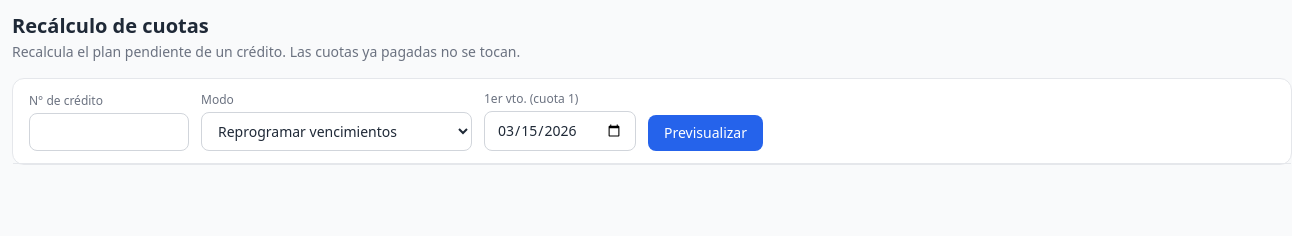
Test: Recálculo de cuotas › sin número de crédito no previsualiza
Click the button "Previsualizar".
click(706, 133)  # box [648,115,763,151]
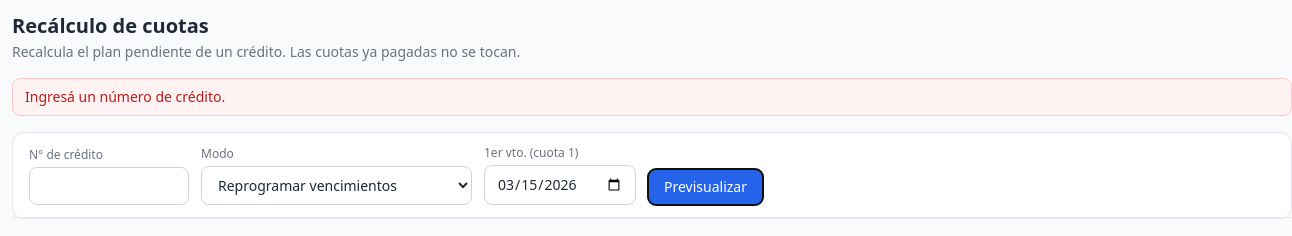
Expected: the text "Ingresá un número de crédito." is shown, [12,78,1291,116]
